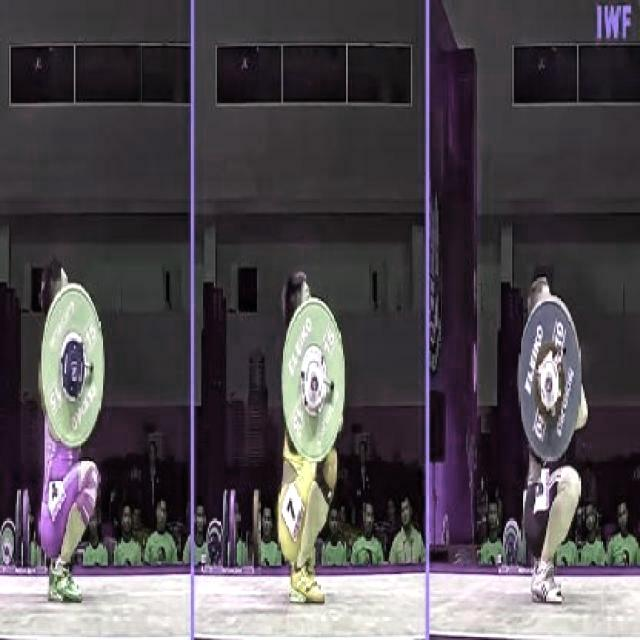barbell: (32, 281, 113, 450), (512, 292, 587, 465), (277, 293, 349, 465)
